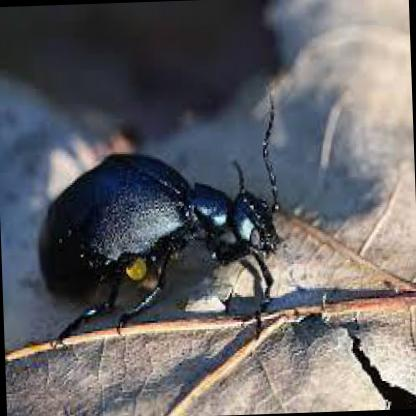blister beetle: (38, 103, 284, 337)
